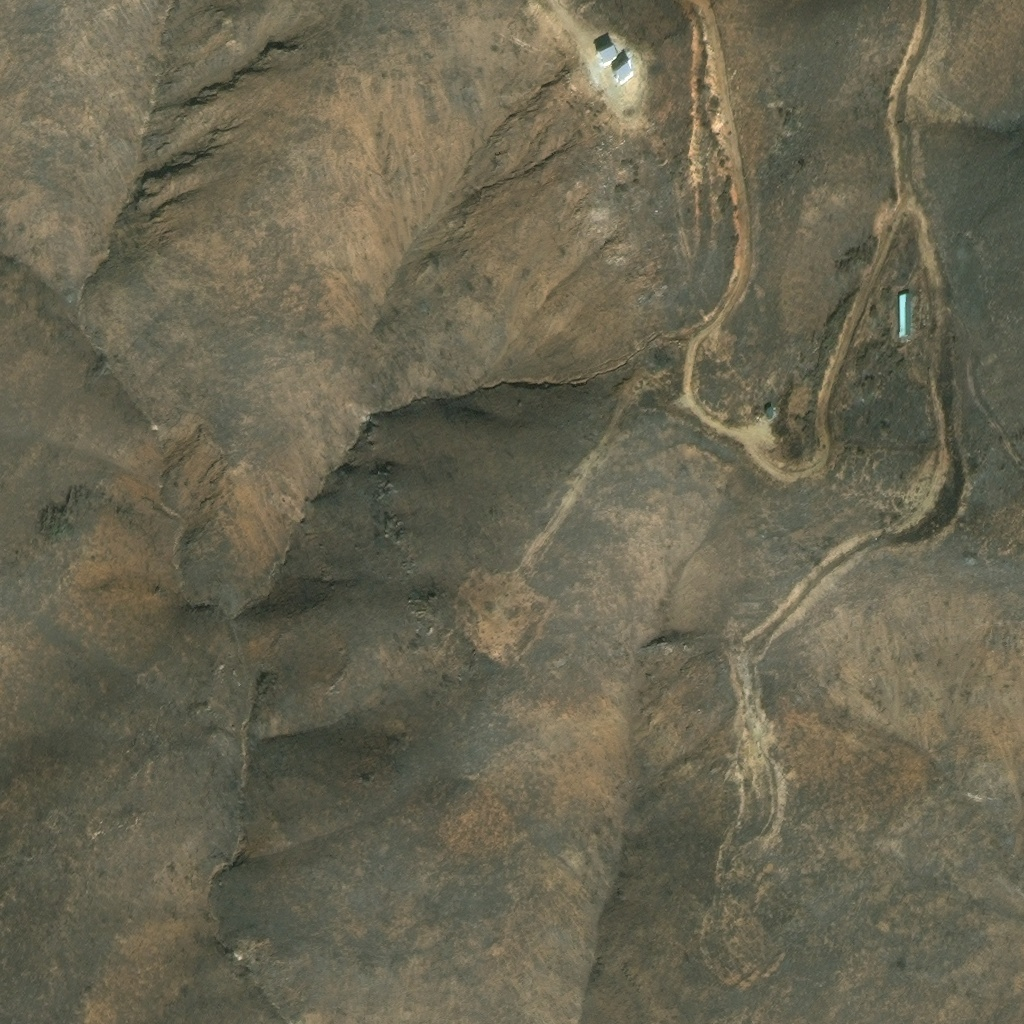0 no-damage: (898, 293, 911, 337), (612, 61, 633, 85), (597, 44, 616, 64), (764, 408, 775, 419)
